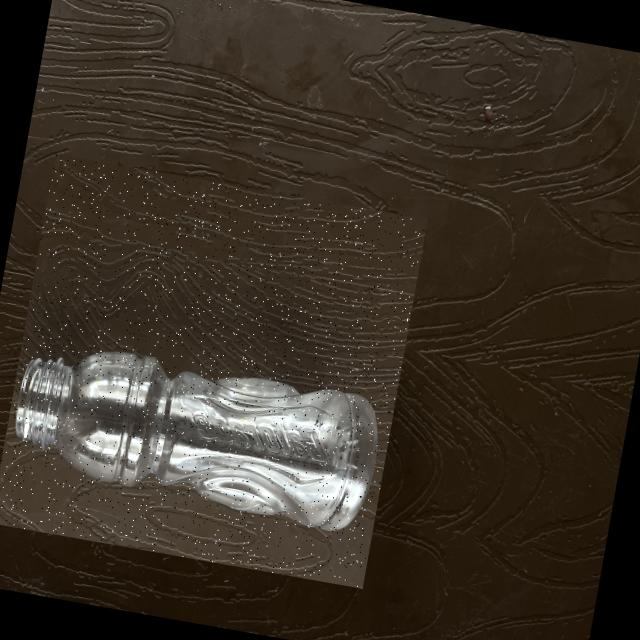PET_ClearBottle: (0, 152, 427, 587)
